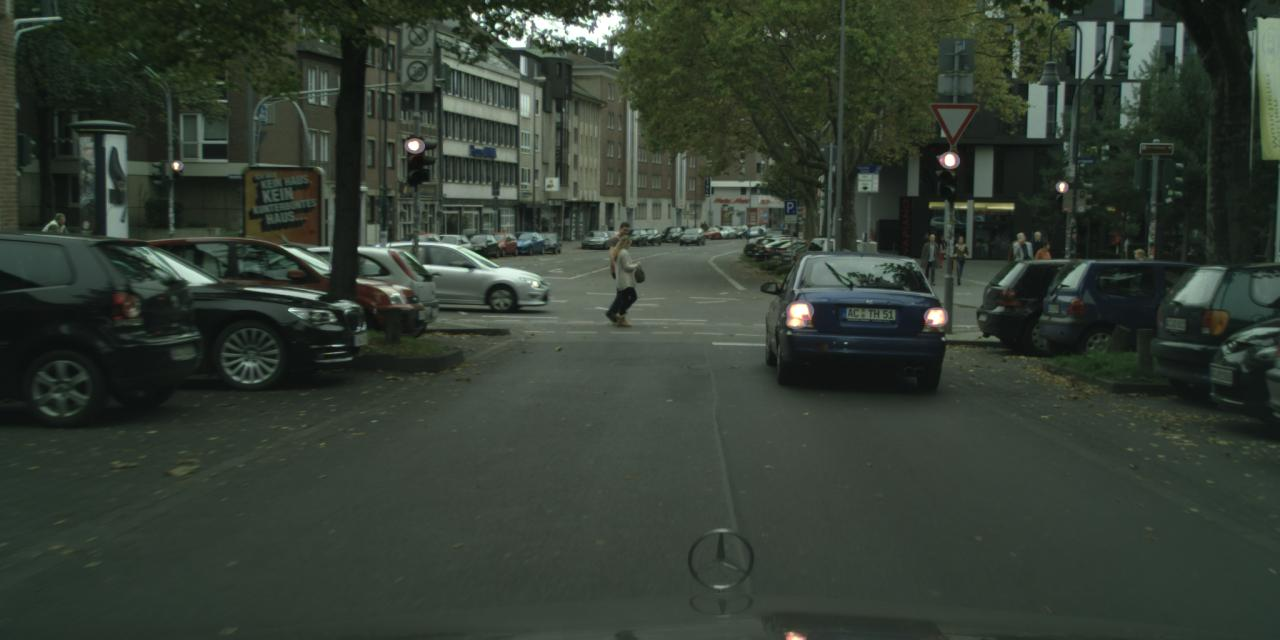ped: (600, 220, 640, 322), (606, 235, 643, 326), (41, 213, 65, 275), (919, 234, 940, 284), (1025, 230, 1045, 280), (1013, 234, 1033, 284), (1034, 241, 1054, 289), (1009, 232, 1028, 282), (1131, 248, 1150, 298), (950, 237, 969, 284), (935, 236, 947, 266), (921, 231, 933, 260), (700, 220, 708, 228)
